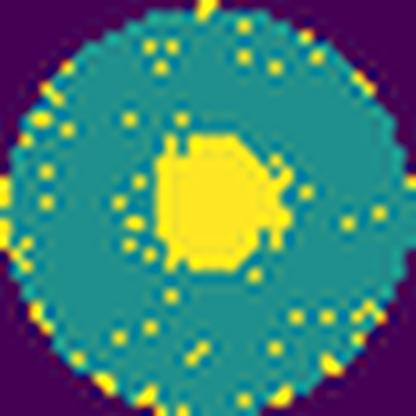Center: (157, 132, 293, 272)
